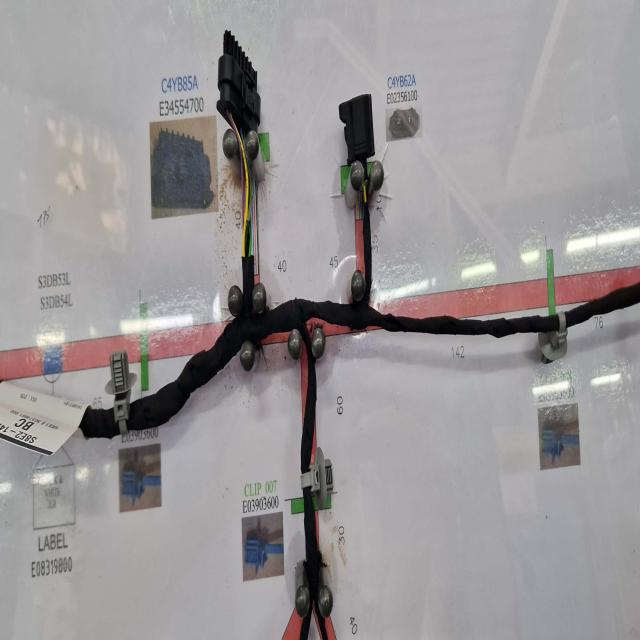Clip: (107, 353, 132, 435), (303, 448, 335, 511), (539, 312, 568, 361)
Connector: (217, 30, 260, 131), (339, 95, 374, 166)
Gape: (237, 143, 261, 258), (362, 166, 376, 214)
Info: (0, 382, 86, 456)
MHEV_N11_Cable: (133, 293, 634, 638), (91, 402, 126, 432)
